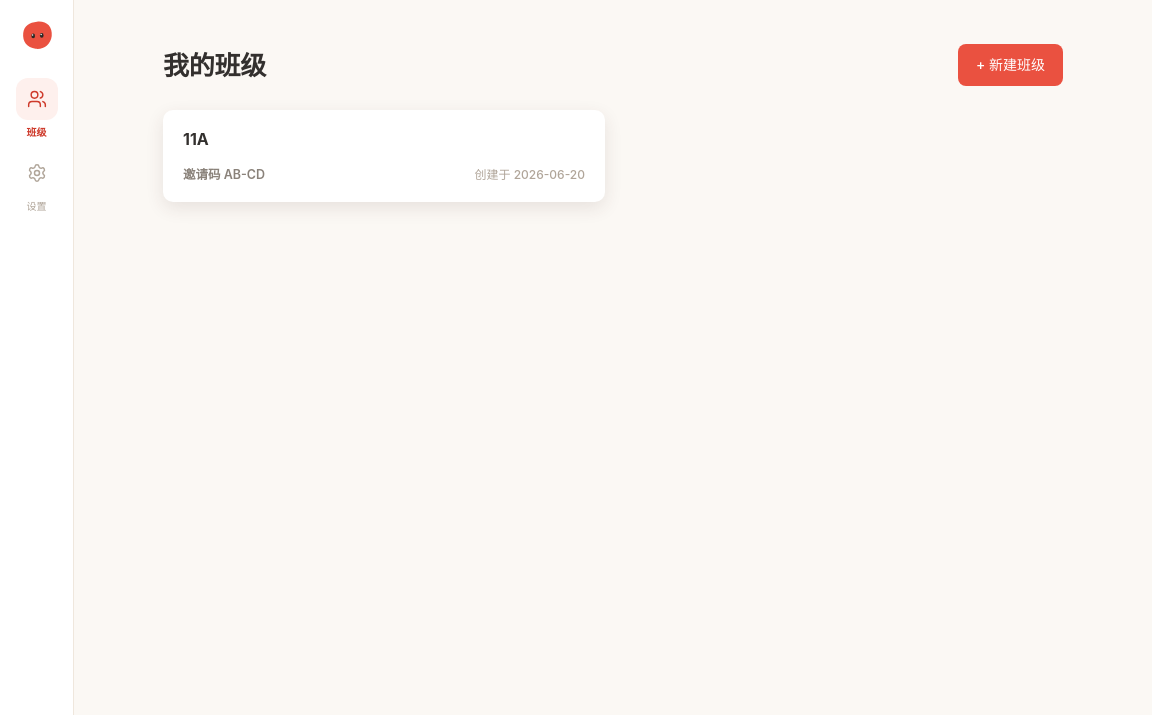
ConsoleShell › clicking 看能力报告 on a weekly card navigates to the teacher report view (regression: userId must travel with the report-open)
This screenshot has width=1152, height=715.
Click the text "11A". click: (196, 139)
box: [183,129,209,149]
(page scrolled)
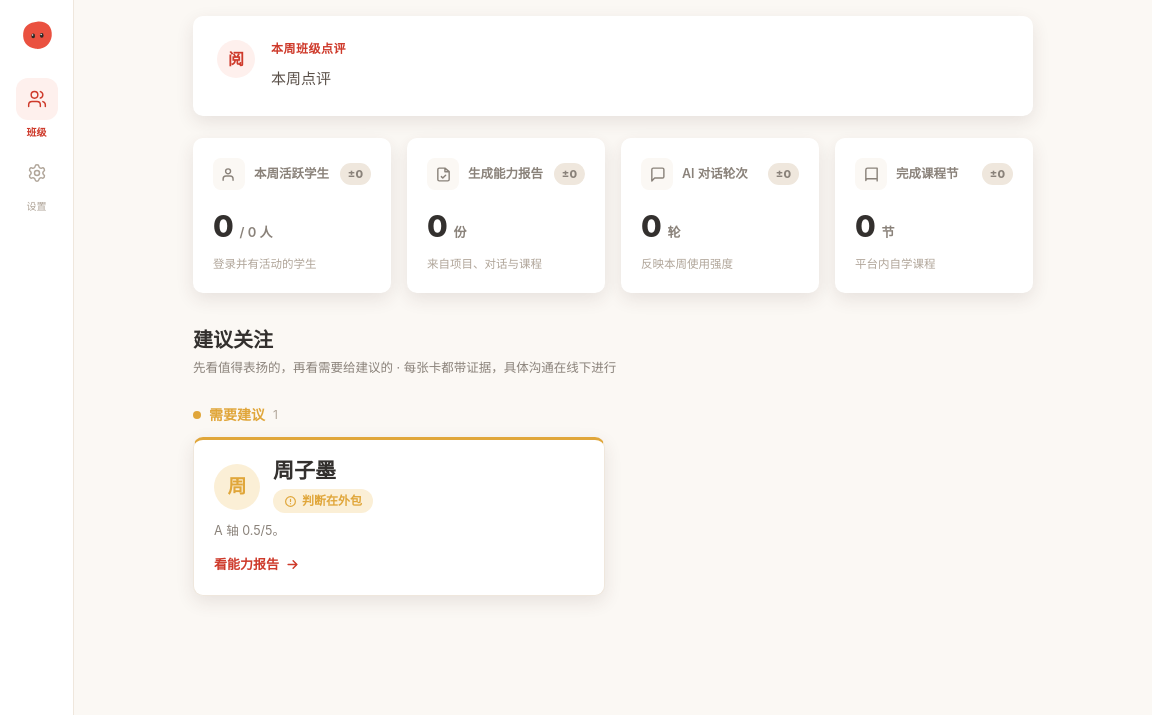
Click the text "看能力报告". click: (257, 565)
box: [214,555,300,575]
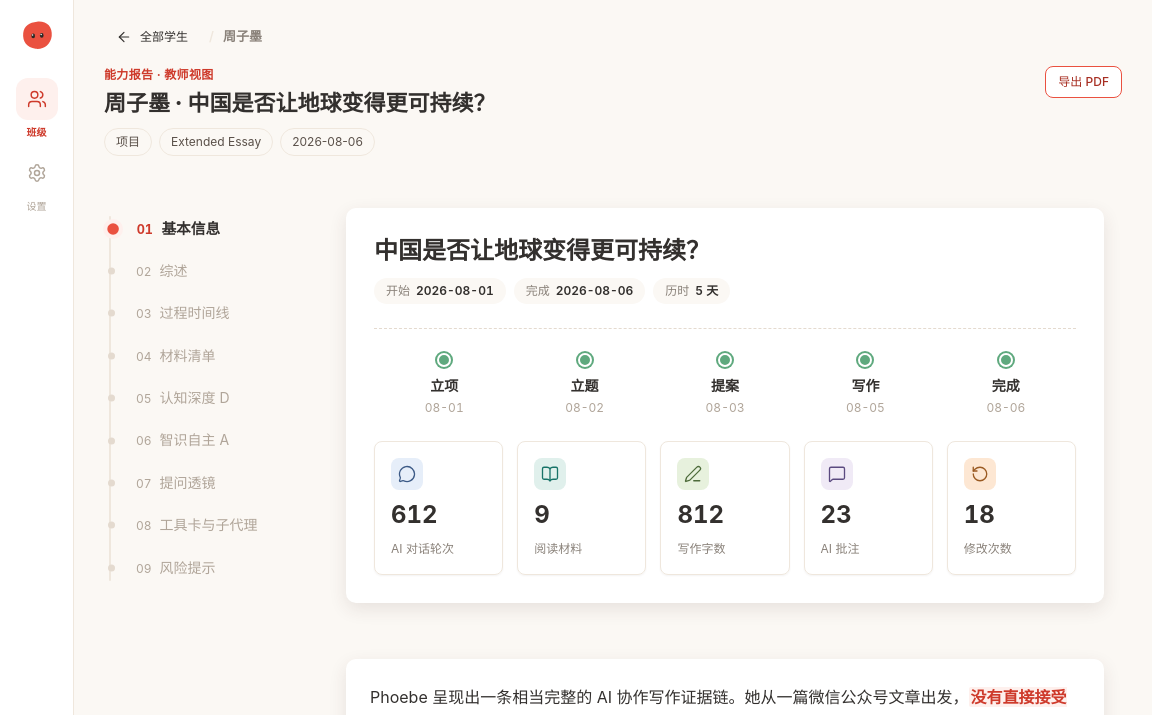
Expected: the text "能力报告 · 教师视图" is shown, [104,67,214,82]
